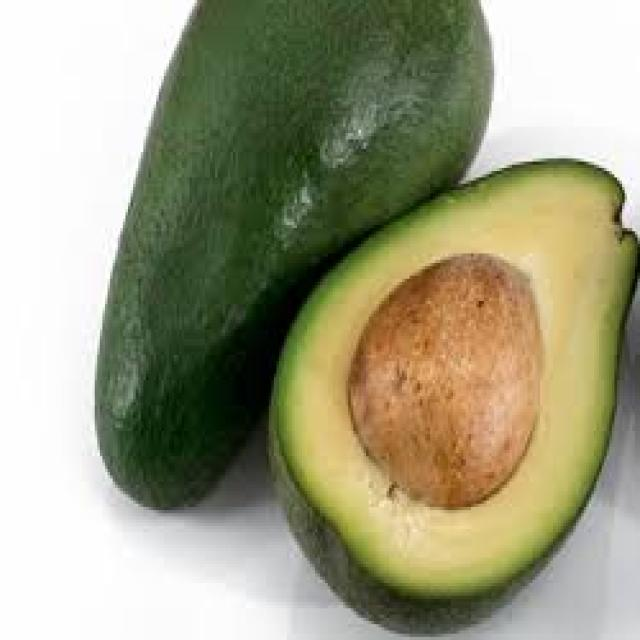avocado: (88, 0, 513, 509), (265, 136, 639, 640)
